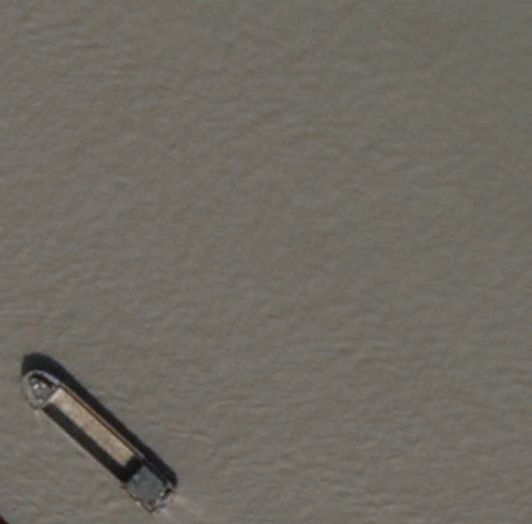boat: (20, 368, 180, 517)
